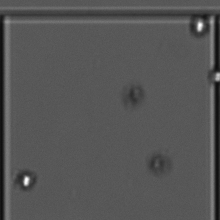Dead Cell: (146, 150, 175, 180), (121, 81, 148, 110)
Living Cell: (14, 168, 45, 196), (187, 14, 215, 41)
